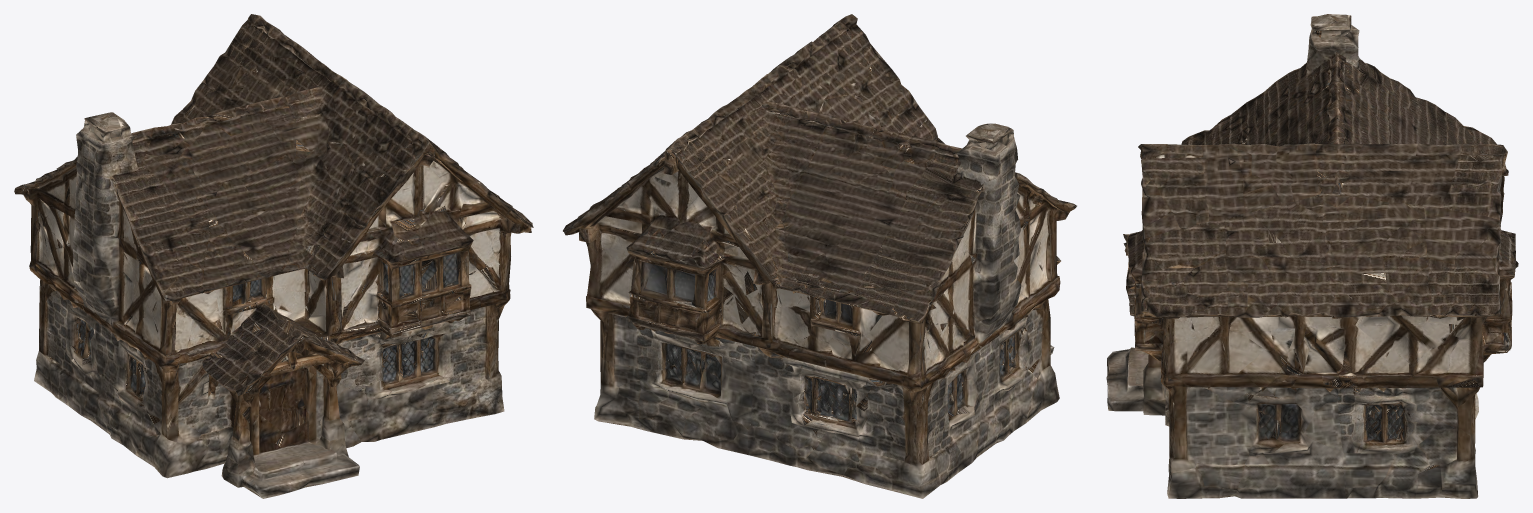
The model's file is house-timber.glb.
3 views of the same model, side by side, from view 1: azimuth 30°, elevation 25°; view 2: azimuth 150°, elevation 25°; view 3: azimuth 270°, elevation 25° (orthographic). The views are drawn at different scales.
Size of the model in its own units: 1.88 by 1.55 by 1.8.
1 material, 1 textured.
